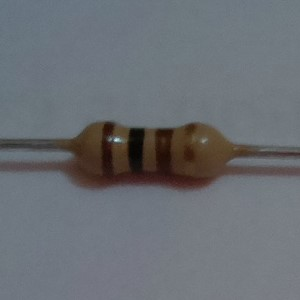black_band: (125, 125, 147, 175)
brown_band: (98, 120, 117, 180), (153, 127, 176, 176)
gold_band: (182, 121, 198, 179)
